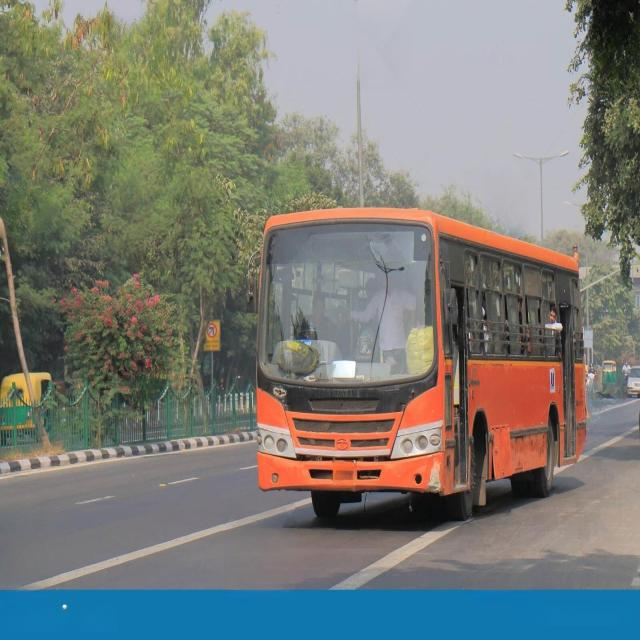bus: (256, 208, 588, 519)
